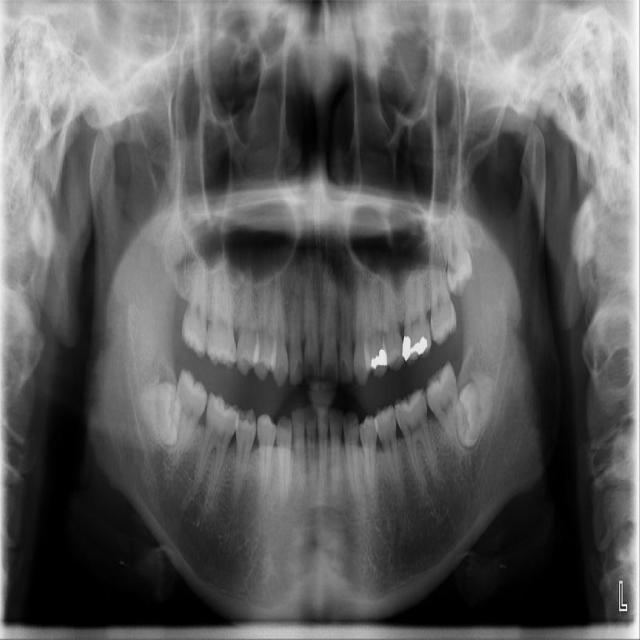Filling: (398, 336, 430, 361), (369, 346, 388, 370)
impacted tooth: (457, 369, 503, 449), (131, 377, 177, 448), (439, 210, 473, 289)
